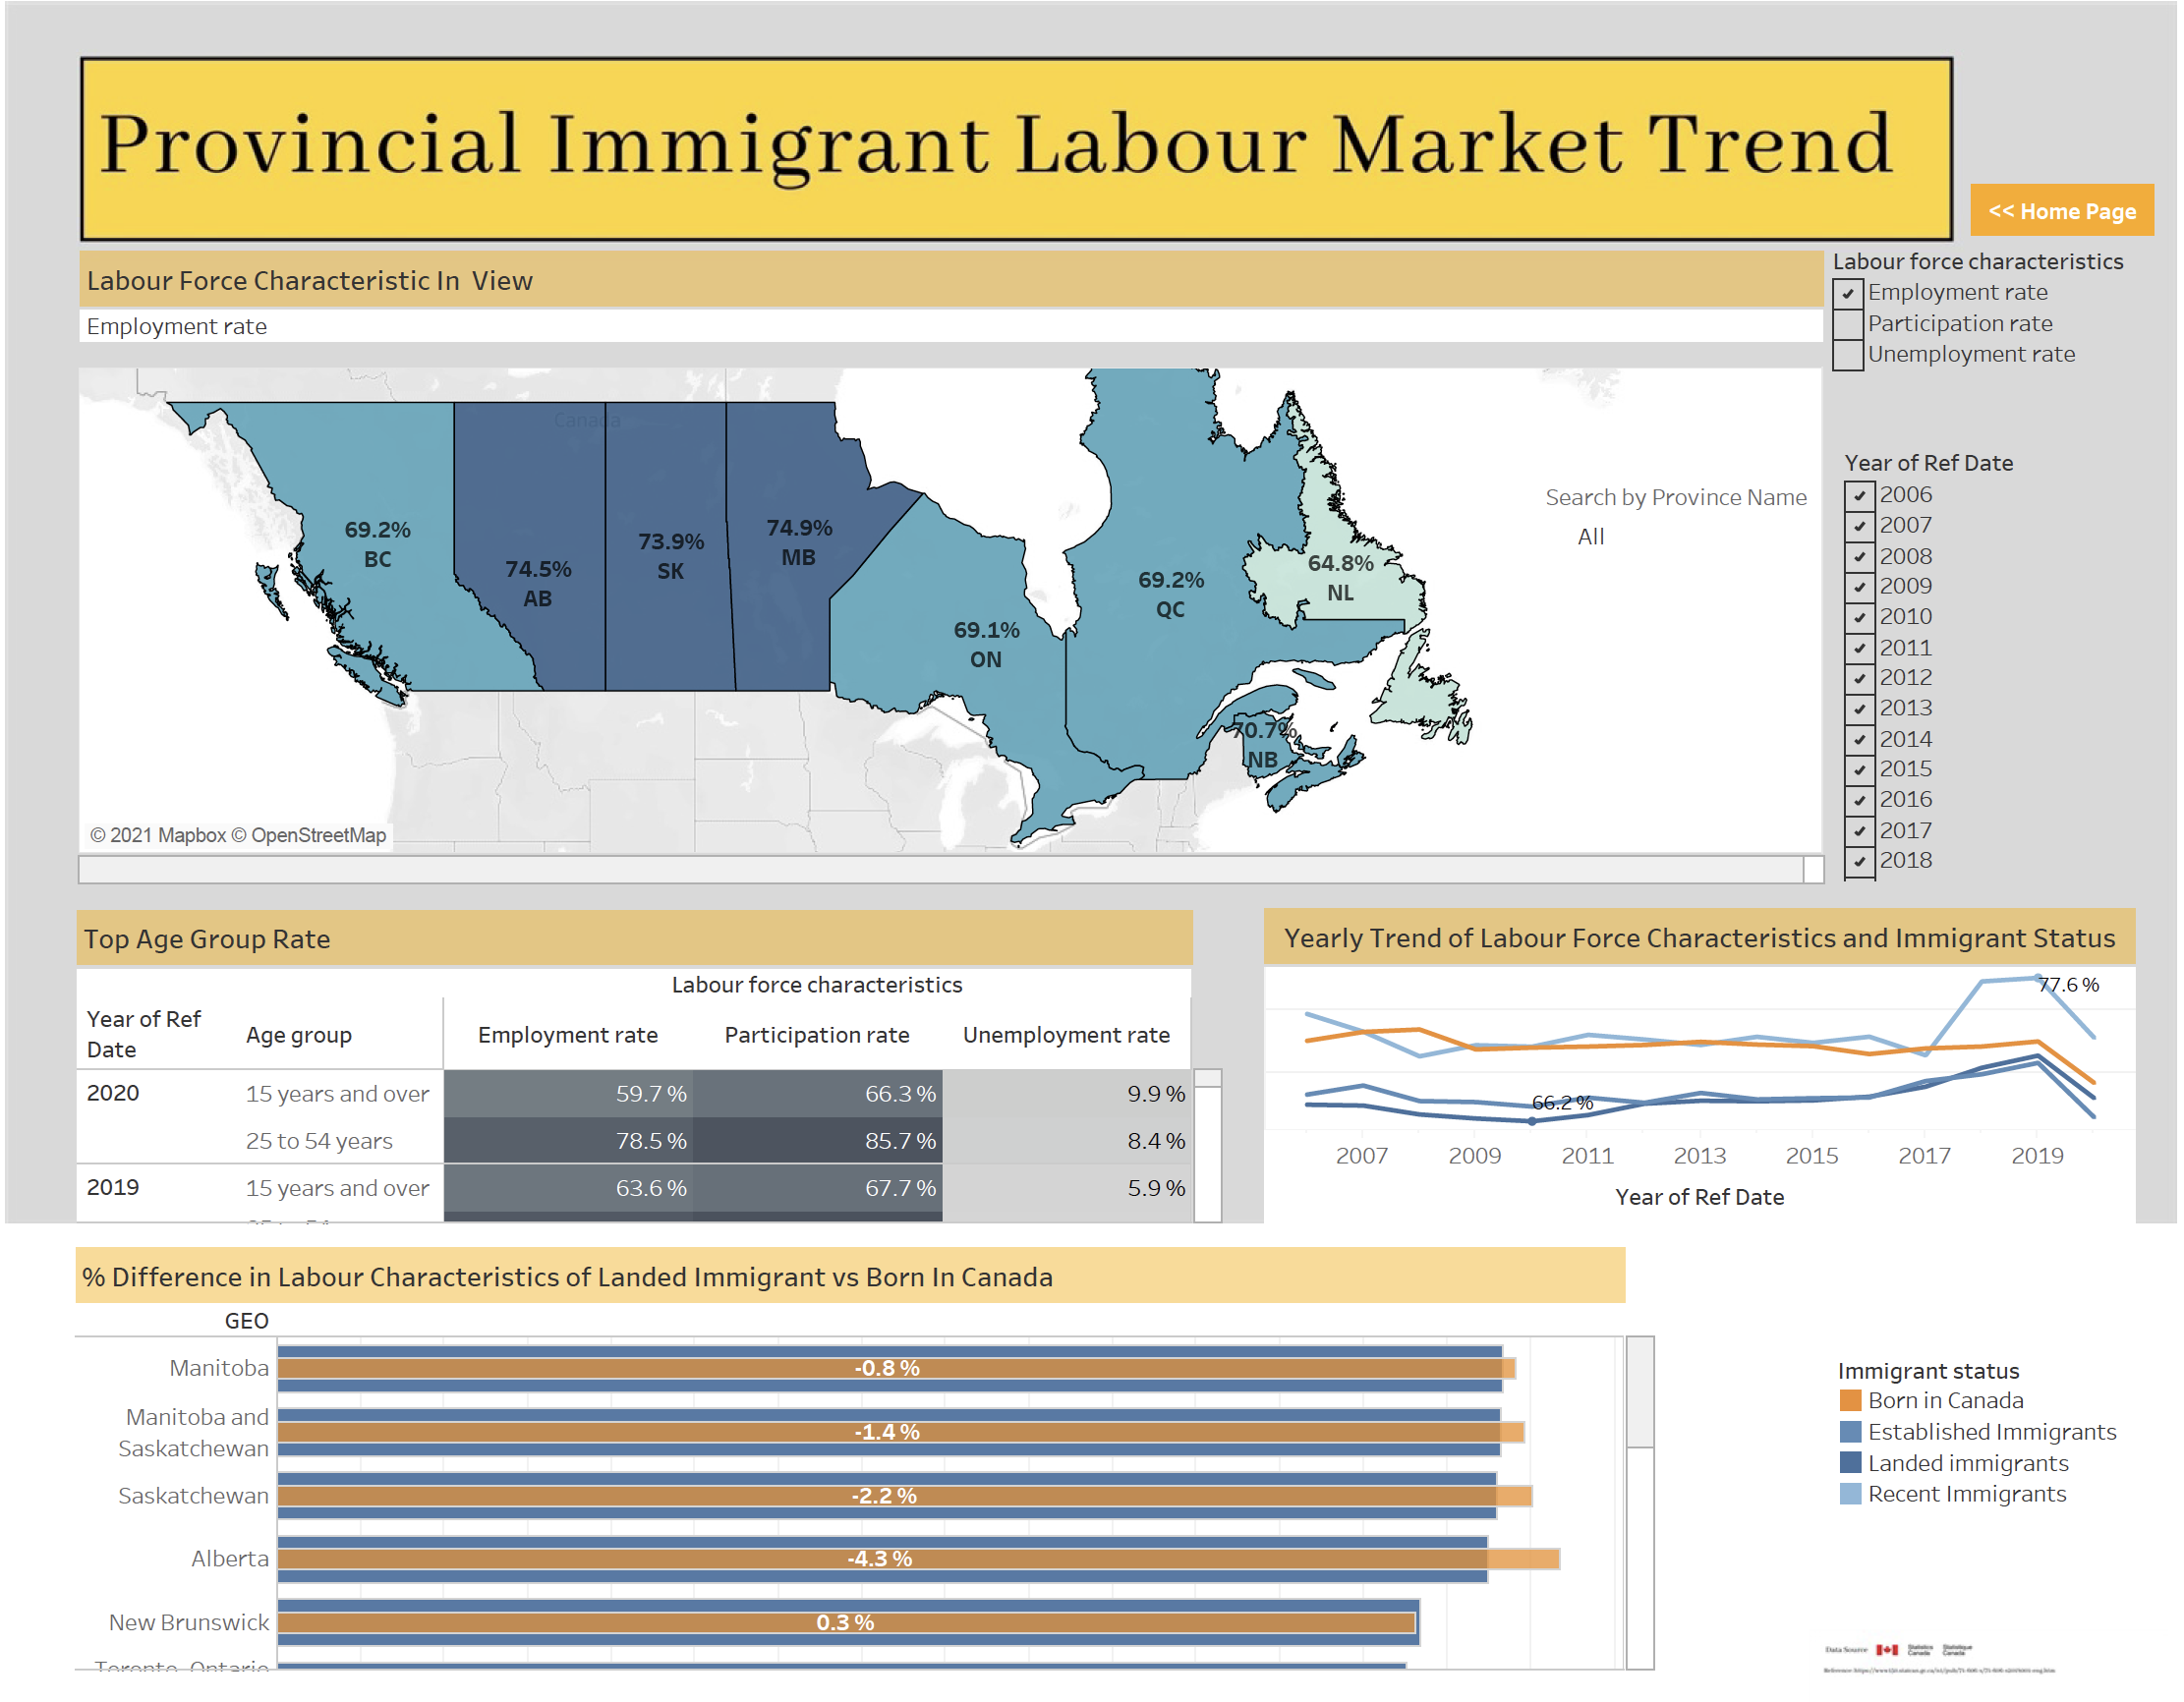

The page's visual inventory and layout, read from the dashboard file:
{"tool":"tableau","page":{"name":"Page 2","canvas":[1500,1200],"ordinal":1},"visuals":[{"type":"image","box":[8,8,1484,1184]},{"type":"image","param":"Image/2 Canadian Immigrant Labour Market Trends.jpg","box":[13,12,1472,1175]},{"type":"dashboard-object","box":[1346,136,124,34]},{"type":"filter","title":"D2C6","param":"[federated.00s52ro19ooepk107ei831v453od].[none:Labour force characteristics:nk]","box":[1252,176,227,120]},{"type":"worksheet","title":"Title D2","mark":"Automatic","box":[64,181,1182,71]},{"type":"worksheet","title":"D2C6","mark":"Multipolygon","box":[63,260,1183,356]},{"type":"filter","title":"D2C6","param":"[federated.00s52ro19ooepk107ei831v453od].[yr:REF_DATE:ok]","box":[1260,313,160,295]},{"type":"text","box":[1054,332,185,30]},{"type":"filter","title":"D2C6 (2)","param":"[federated.00s52ro19ooepk107ei831v453od].[none:GEO:nk]","box":[1077,364,160,53]},{"type":"worksheet","title":"D2C6 (3)","mark":"Automatic","rows":["VALUE"],"cols":["REF_DATE"],"box":[867,627,590,213]},{"type":"worksheet","title":"D2C6(4)","mark":"Automatic","rows":["REF_DATE","Age group"],"cols":["Labour force characteristics"],"box":[62,628,826,213]},{"type":"worksheet","title":"D2C6 (2)","mark":"Bar","rows":["GEO"],"cols":["Born in Canada (copy)_1817765467383185417","Calculation_1817765467382837256"],"box":[61,857,1071,287]},{"type":"legend","title":"D2C6 (3)","param":"[federated.00s52ro19ooepk107ei831v453od].[none:Immigrant status:nk]","box":[1254,928,196,106]},{"type":"image","param":"Image/Add a heading.png","box":[1236,1114,243,64]}]}

Visuals, with their boxes in screenshot pixels (x1, y1, x2, y2), scaled from the page's 1500x1200 canvas onto the 2184x1702 screenshot:
image: left=12, top=12, right=2172, bottom=1690
image: left=19, top=17, right=2162, bottom=1683
dashboard-object: left=1960, top=193, right=2141, bottom=241
"D2C6" filter: left=1823, top=250, right=2154, bottom=420
"Title D2" worksheet: left=93, top=256, right=1814, bottom=358
"D2C6" worksheet (Multipolygon marks): left=91, top=369, right=1814, bottom=874
"D2C6" filter: left=1834, top=444, right=2067, bottom=863
text: left=1534, top=471, right=1804, bottom=513
"D2C6 (2)" filter: left=1568, top=516, right=1801, bottom=592
"D2C6 (3)" worksheet: left=1262, top=889, right=2121, bottom=1191
"D2C6(4)" worksheet: left=90, top=890, right=1293, bottom=1193
"D2C6 (2)" worksheet (Bar marks): left=88, top=1216, right=1648, bottom=1622
"D2C6 (3)" legend: left=1826, top=1316, right=2111, bottom=1466
image: left=1800, top=1580, right=2154, bottom=1671
